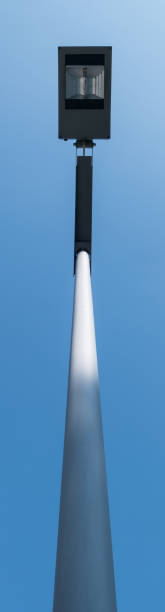light_pole: (49, 213, 122, 611)
